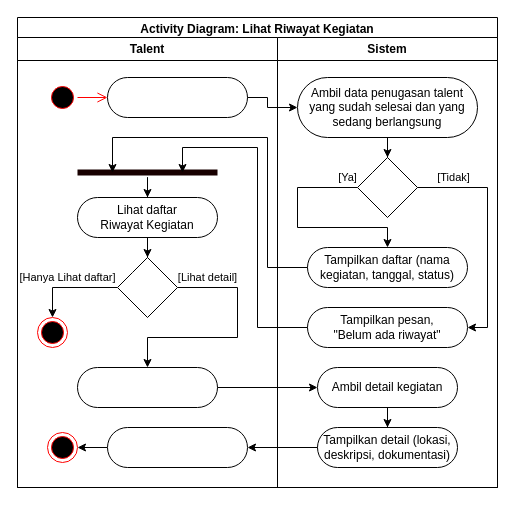
This 515x505 diagram has some shape labels left out. The shapes that lost their labels are listed below. From the top down, each one's centre as x and y in pixels, then its label:
[177,97]: Buka halaman "Riwayat Kegiatan"
[387,187]: ada
[147,287]: aksi
[147,387]: Pilih kegiatan
[177,447]: Lihat detail Kegiatan
